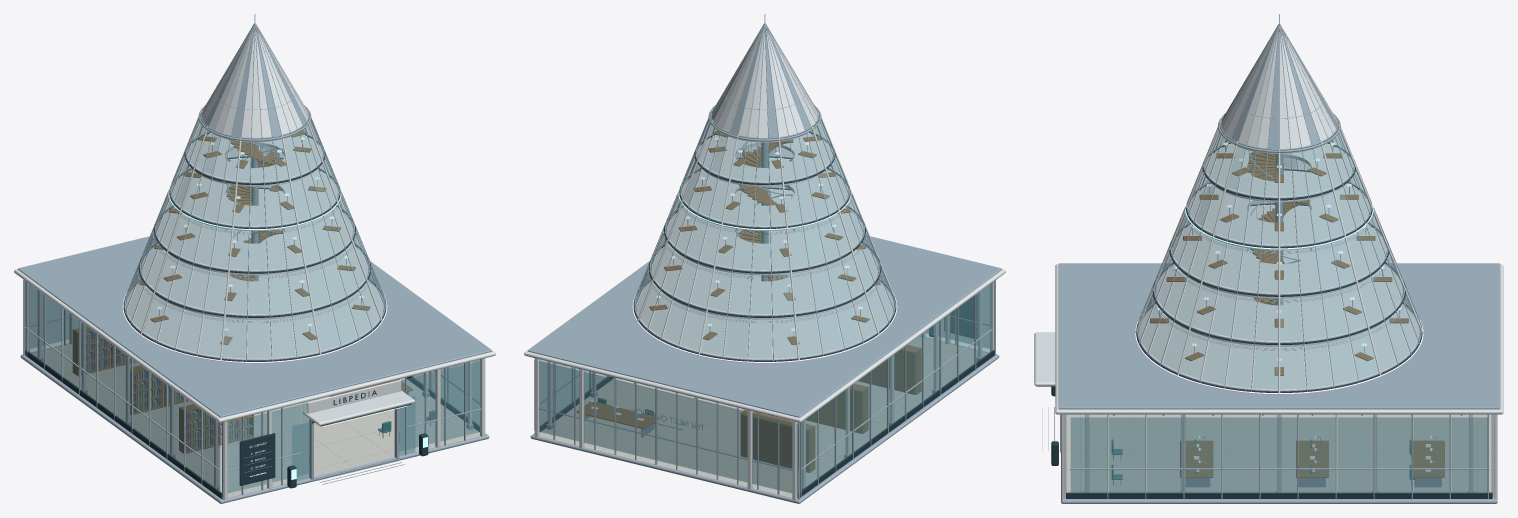
The model's file is library-refined.glb.
The picture shows the model from 3 angles, left to right: view 1: azimuth 30°, elevation 25°; view 2: azimuth 150°, elevation 25°; view 3: azimuth 270°, elevation 25°; orthographic projection. The views are drawn at different scales.
Visible parts, largest first — view 1: Glazing | low iron blue, Porcelain | satin ceramic, Aluminium | brushed edges, Floor | warm limestone, Structure | midnight anodised, Oak | reading furniture, Glazing | fritted upper panels, Book | 0, Book | 3, Book | 1, Book | 4, Book | 2; view 2: Glazing | low iron blue, Porcelain | satin ceramic, Aluminium | brushed edges, Floor | warm limestone, Oak | reading furniture, Structure | midnight anodised, Glazing | fritted upper panels; view 3: Glazing | low iron blue, Porcelain | satin ceramic, Aluminium | brushed edges, Floor | warm limestone, Oak | reading furniture, Structure | midnight anodised, Glazing | fritted upper panels, Light | orchid.
Boxes of the visible parts, x1,y1,x2,y2 form: Glazing | low iron blue: [25, 120, 480, 493]; Porcelain | satin ceramic: [14, 30, 495, 500]; Aluminium | brushed edges: [18, 14, 491, 503]; Floor | warm limestone: [32, 344, 480, 497]; Structure | midnight anodised: [25, 115, 479, 498]; Oak | reading furniture: [72, 130, 412, 453]; Glazing | fritted upper panels: [146, 122, 376, 358]; Book | 0: [81, 331, 249, 451]; Book | 3: [86, 333, 244, 449]; Book | 1: [81, 331, 239, 450]; Book | 4: [87, 332, 246, 448]; Book | 2: [95, 335, 241, 448]; Glazing | low iron blue: [534, 120, 991, 494]; Porcelain | satin ceramic: [524, 30, 1005, 500]; Aluminium | brushed edges: [528, 14, 1001, 503]; Floor | warm limestone: [539, 336, 987, 498]; Oak | reading furniture: [576, 130, 921, 472]; Structure | midnight anodised: [540, 115, 994, 498]; Glazing | fritted upper panels: [659, 123, 888, 358]; Glazing | low iron blue: [1064, 131, 1494, 493]; Porcelain | satin ceramic: [1034, 31, 1503, 498]; Aluminium | brushed edges: [1042, 14, 1500, 503]; Floor | warm limestone: [1065, 414, 1493, 498]; Oak | reading furniture: [1113, 151, 1461, 477]; Structure | midnight anodised: [1037, 126, 1492, 498]; Glazing | fritted upper panels: [1163, 134, 1411, 389]; Light | orchid: [1135, 314, 1423, 393].
Bounding box in the file's own units: 21.1 × 27.93 × 28.36.
